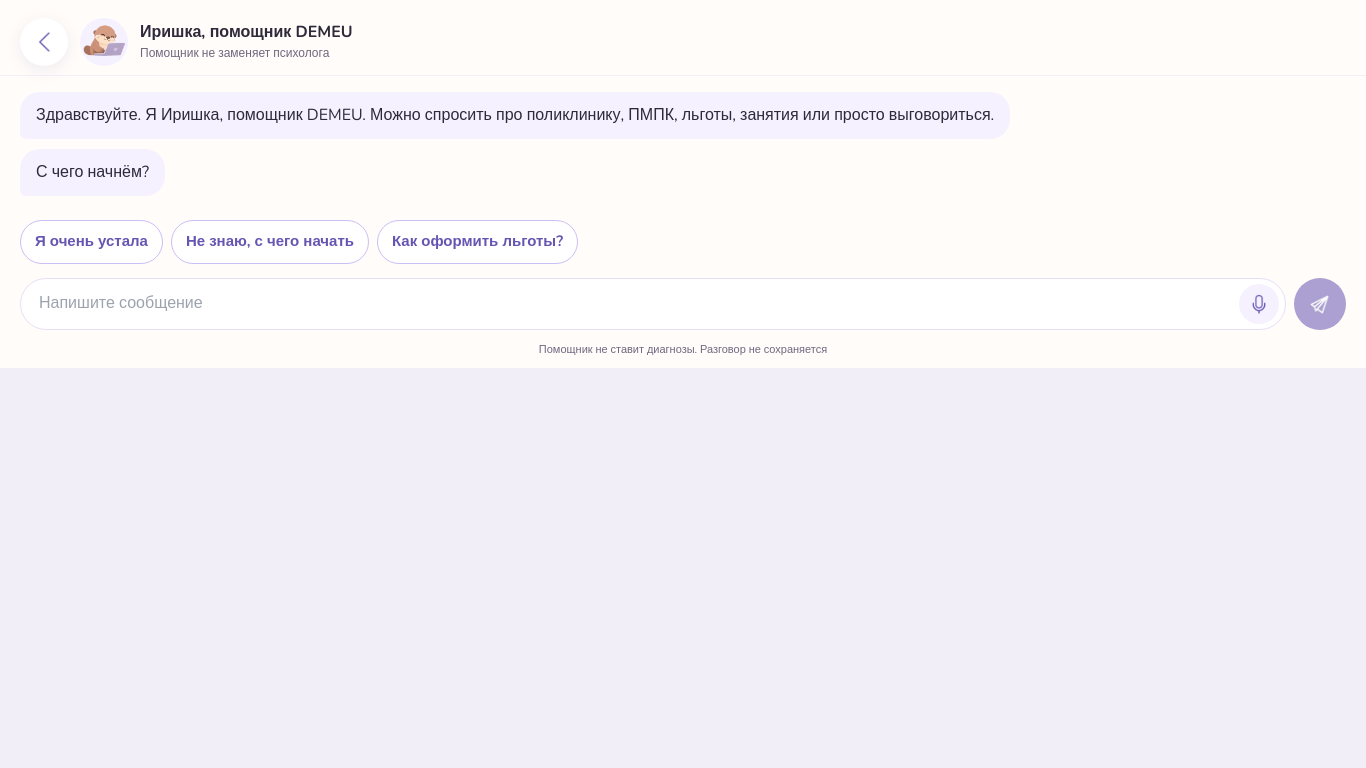
Test: support safety and profile › offline crisis phrase also displays emergency help
This screenshot has width=1366, height=768.
Step 1. Type "Не хочу жить" into the field → x=636, y=304, box x1=39 y1=292 x2=1233 y2=316
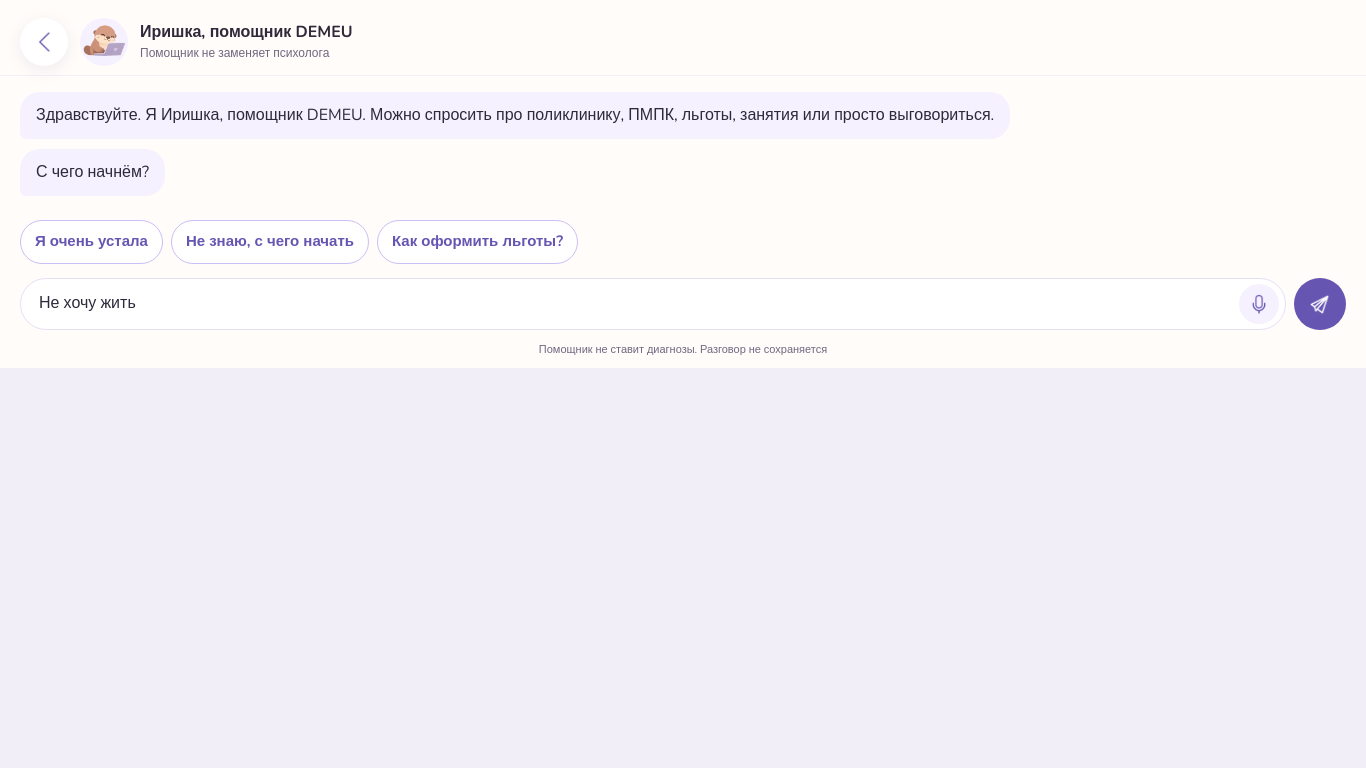
Step 2. Submit the form, box x1=0 y1=272 x2=1365 y2=342
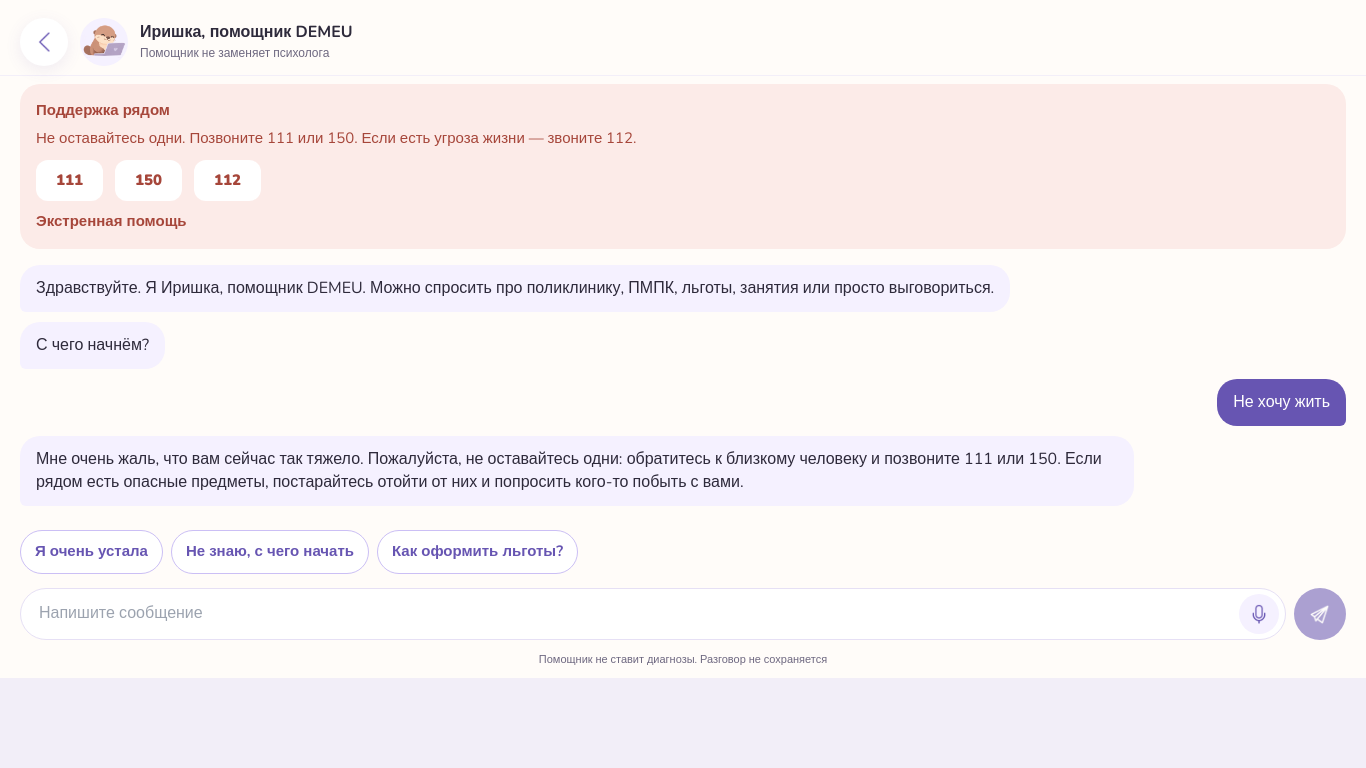
Expected: the element named "Экстренная помощь" is shown, x1=20 y1=84 x2=1346 y2=249
